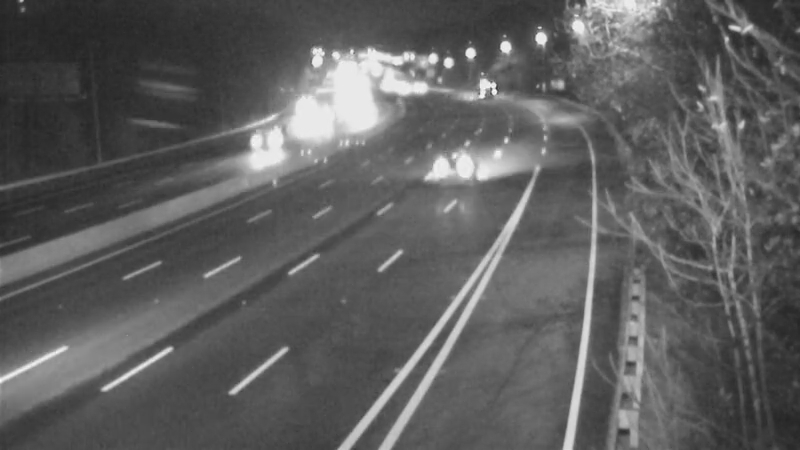vehicle: (421, 124, 501, 204), (459, 57, 509, 107), (227, 118, 277, 168), (288, 102, 338, 152)
